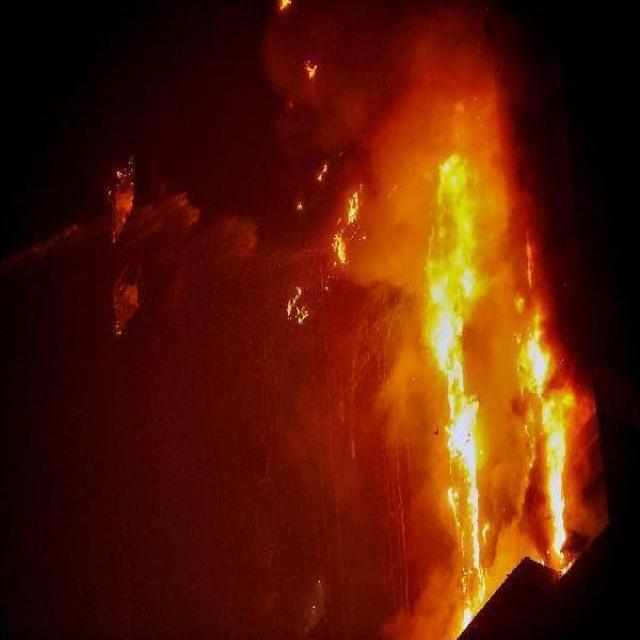fire: (411, 113, 583, 617), (266, 12, 371, 341)
